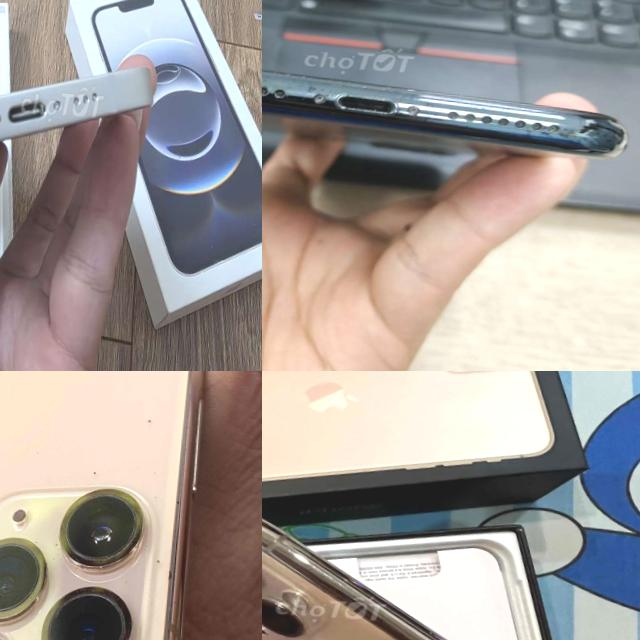gen_11: (0, 371, 241, 640), (262, 33, 640, 197), (262, 492, 566, 640)
gen_16: (0, 67, 152, 141)
scratch: (262, 52, 466, 139), (59, 478, 149, 570), (0, 514, 57, 616), (146, 542, 184, 606), (128, 397, 162, 428), (79, 461, 106, 480)
